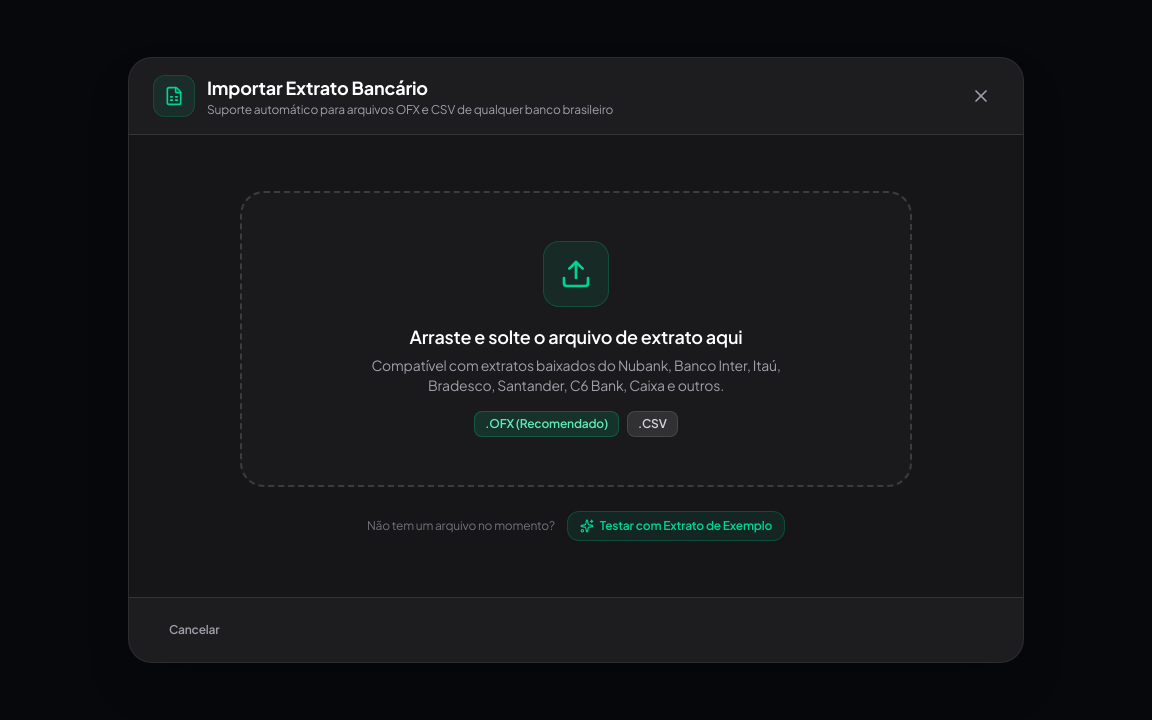
Test: <ImportStatementModal /> (Importação de Extrato Bancário) › deve carregar os lançamentos de exemplo e exibir a tabela de conferência
This screenshot has width=1152, height=720.
Click the button with test id "load-demo-statement-btn": point(676, 526) [567,511,785,541]
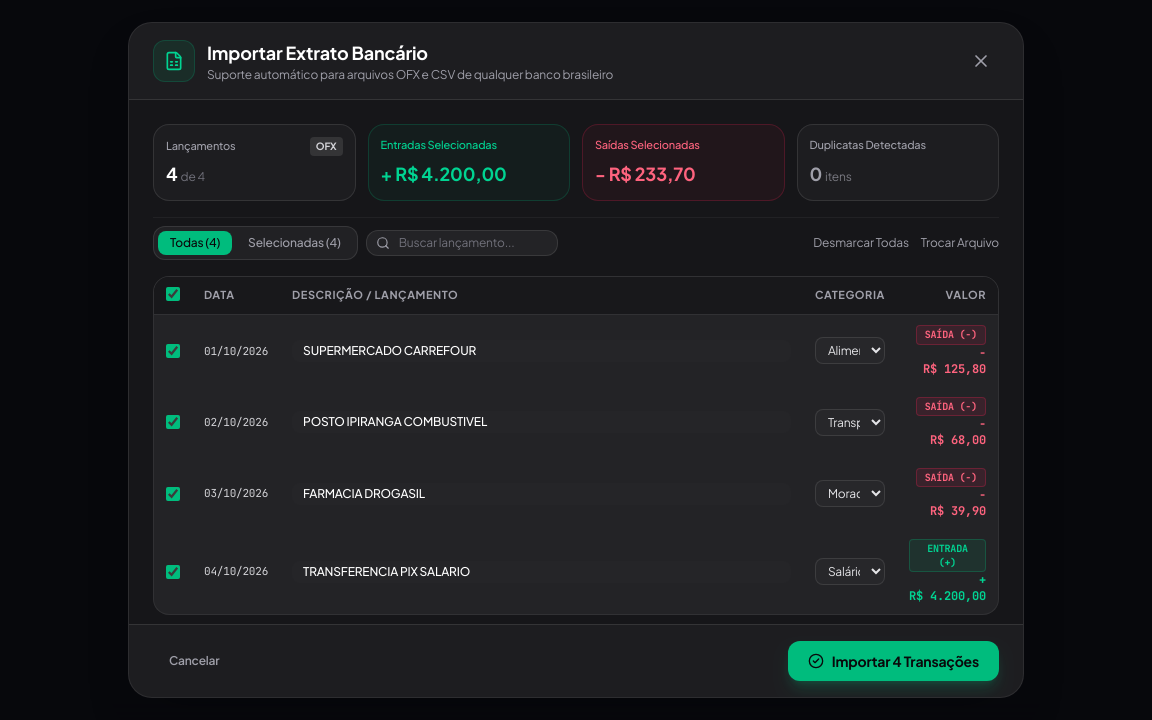
Expected: the field showing "SUPERMERCADO CARREFOUR" next to "01/10/2026" is shown, [292,340,791,362]
Expected: the field showing "POSTO IPIRANGA COMBUSTIVEL" next to "02/10/2026" is shown, [292,411,791,433]
Expected: the field showing "TRANSFERENCIA PIX SALARIO" next to "04/10/2026" is shown, [292,561,791,583]
